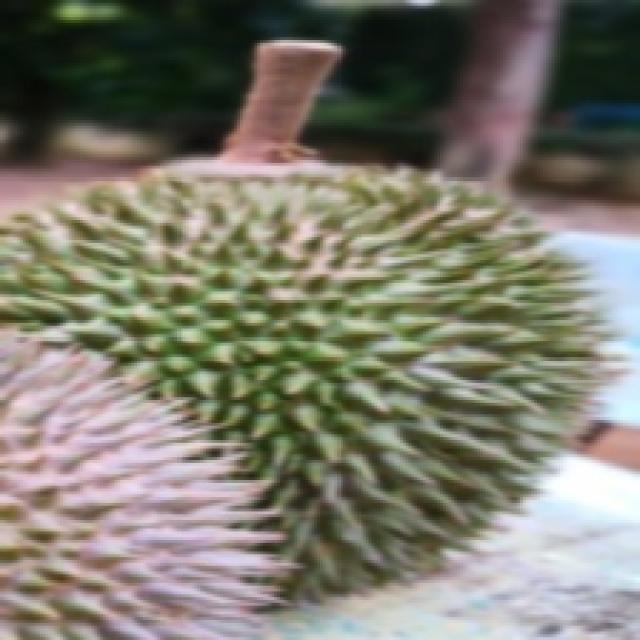d101: (60, 164, 583, 527), (25, 331, 266, 608)
